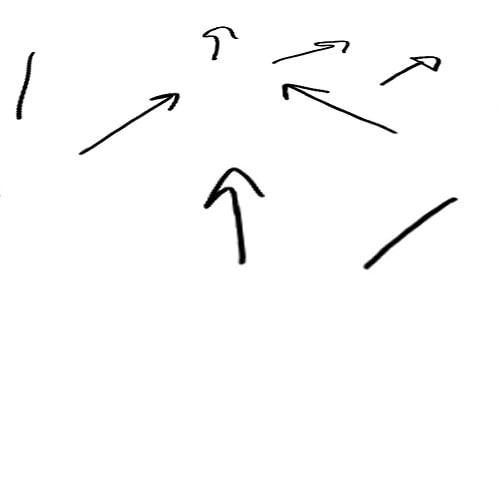arrow: (198, 164, 266, 264), (279, 80, 399, 136), (83, 90, 180, 155), (274, 39, 351, 65), (382, 56, 444, 85), (204, 24, 238, 66)
arrownohead: (362, 195, 459, 270), (14, 52, 36, 118)
